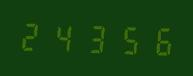five: (111, 20, 141, 57)
four: (49, 18, 79, 55)
six: (142, 21, 172, 58)
three: (80, 19, 110, 56)
two: (18, 17, 48, 54)
